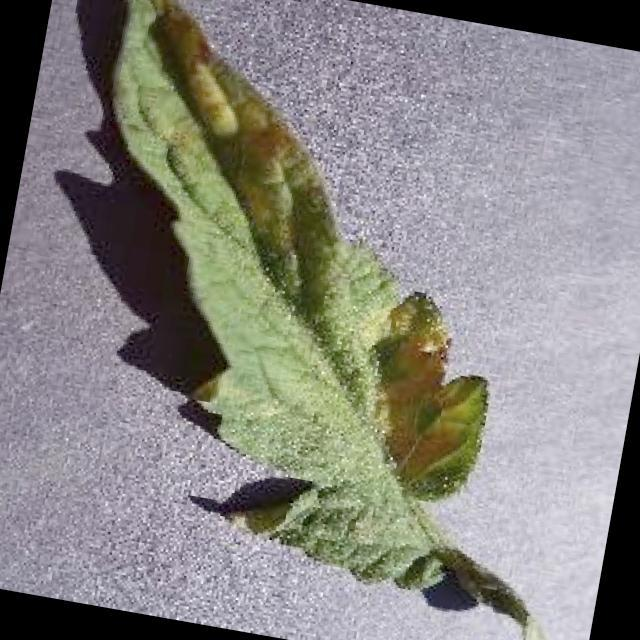Tomato mold leaf: (28, 0, 557, 600)
